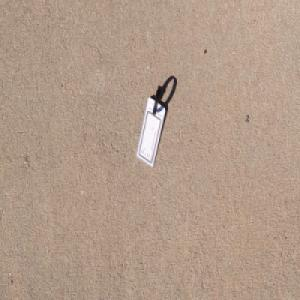LuggageTag: (135, 82, 167, 170)
